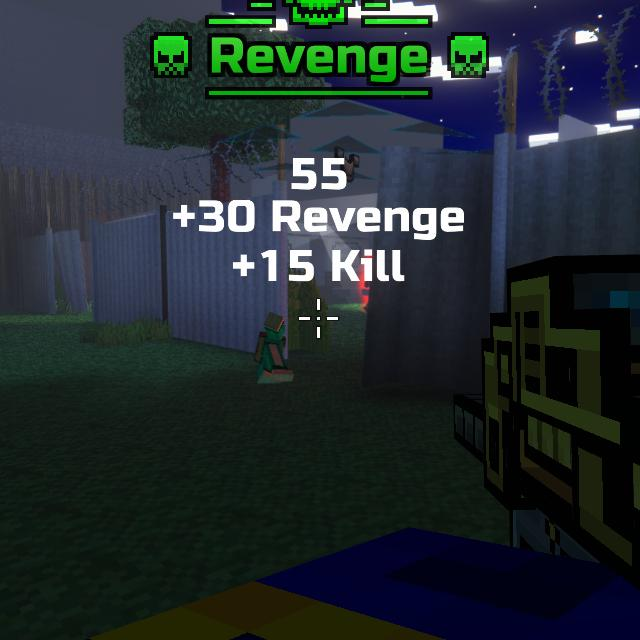Enemy: (360, 282, 370, 312)
